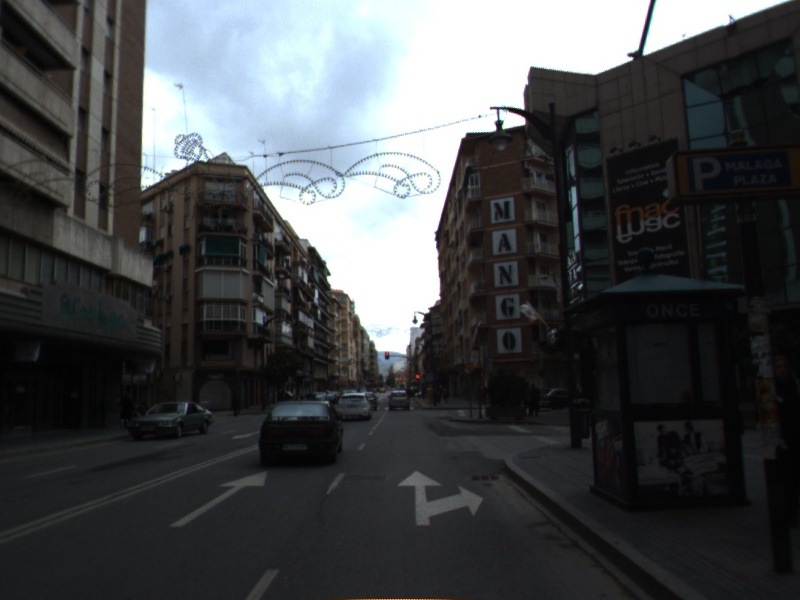STRAIGHT: (168, 469, 269, 529)
STRAIGHT_RIGHT: (394, 468, 486, 528)
